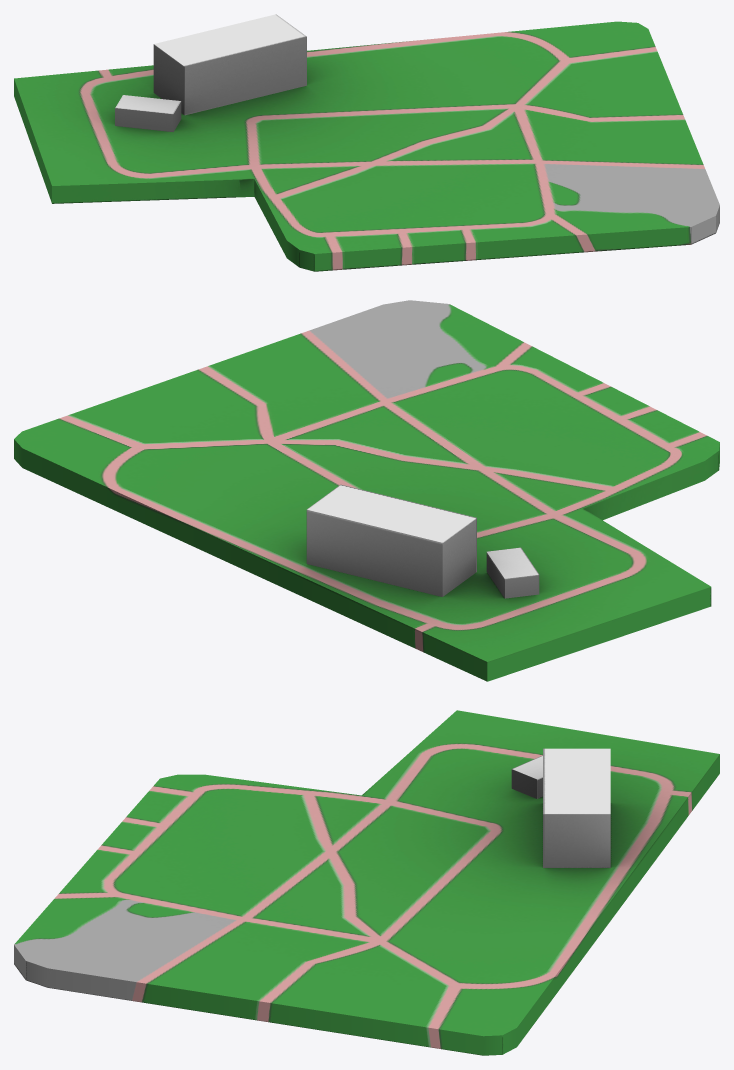
File: hqgy.gltf
The picture shows the model from 3 angles, top to bottom: view 1: azimuth 30°, elevation 25°; view 2: azimuth 150°, elevation 25°; view 3: azimuth 270°, elevation 25°; orthographic projection. The views are drawn at different scales.
Parts seen in each view (by area): view 1: pCube1, pCube2, pCube3; view 2: pCube1, pCube2, pCube3; view 3: pCube1, pCube2, pCube3.
Boxes of the visible parts, bbox=[...] form: pCube1: bbox=[14, 21, 719, 271]; pCube2: bbox=[153, 14, 306, 115]; pCube3: bbox=[115, 95, 181, 132]; pCube1: bbox=[14, 300, 719, 681]; pCube2: bbox=[306, 484, 476, 596]; pCube3: bbox=[486, 547, 539, 598]; pCube1: bbox=[14, 710, 719, 1055]; pCube2: bbox=[543, 748, 610, 867]; pCube3: bbox=[511, 755, 542, 798].
Size of the model in its own units: 18.32 by 1.92 by 16.77.
Materials: 1 (1 with a texture image).
